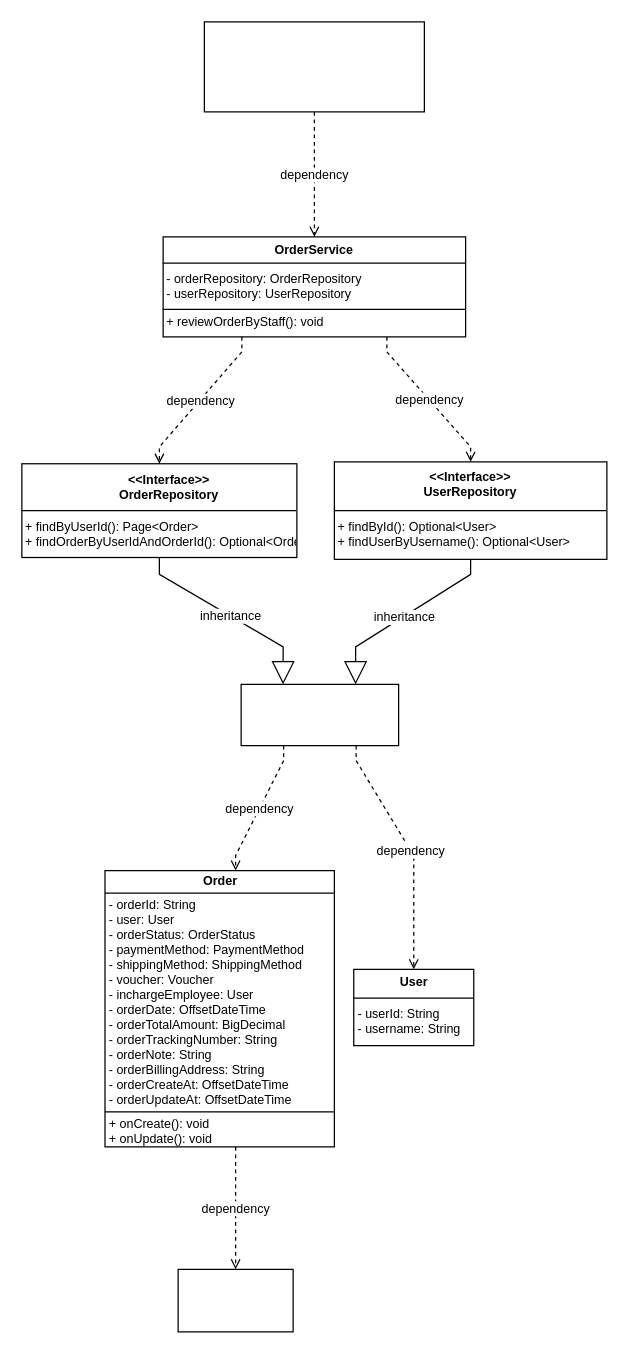
The diagram is 629 pixels wide and 1354 high, and some of its shapes have lost their labels. Here are the shapes that lost their labels. From the top down, the box of each, then its label:
(203, 21, 424, 112): OrderRestController - orderService: OrderService + reviewOrderByStaff()
(240, 683, 399, 746): JpaRepository
(177, 1268, 293, 1332): OrderStatus
